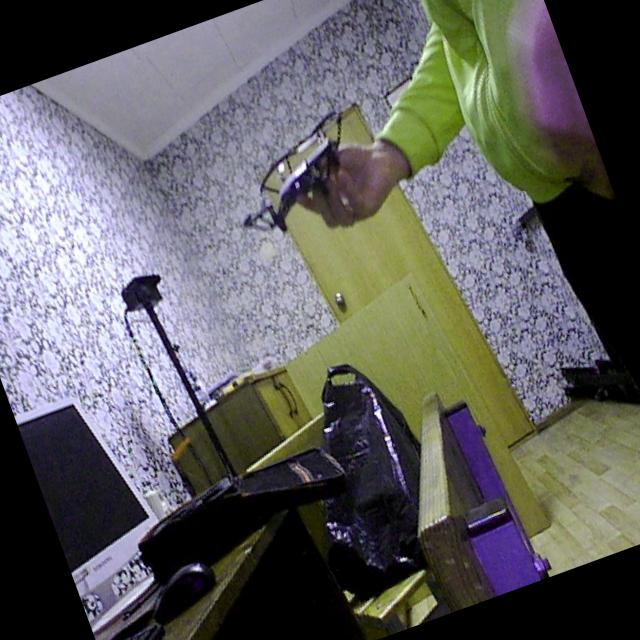drone: (214, 104, 390, 256)
